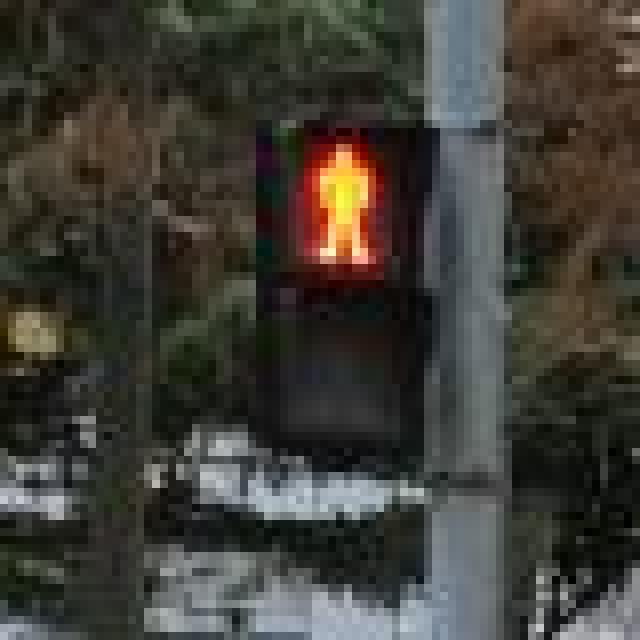redlight: (240, 96, 440, 472)
